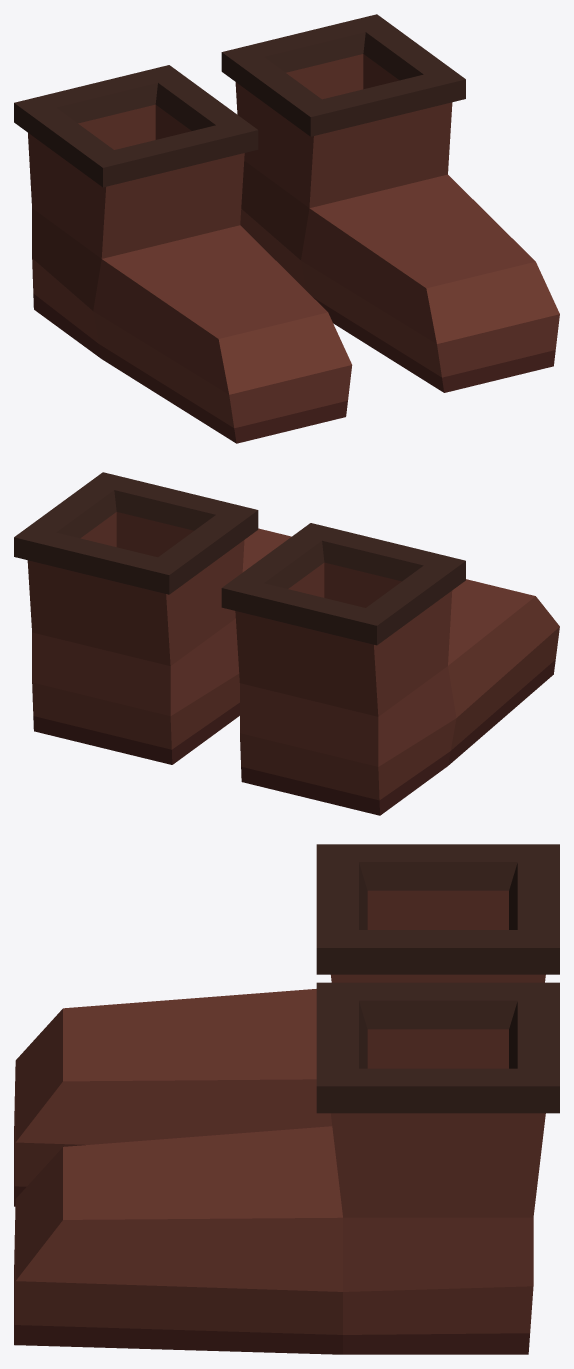
The model's file is Sepatu.fbx.
3 views of the same model, one above another, from view 1: azimuth 30°, elevation 25°; view 2: azimuth 150°, elevation 25°; view 3: azimuth 270°, elevation 25° (orthographic). The views are drawn at different scales.
Parts seen in each view (by area): view 1: Cube.040; view 2: Cube.040; view 3: Cube.040.
Part boxes in pixels (bbox=[...]): Cube.040: bbox=[14, 14, 559, 443]; Cube.040: bbox=[14, 472, 559, 815]; Cube.040: bbox=[14, 844, 559, 1354].
Size of the model in its own units: 53.5 by 28.2 by 50.92.
